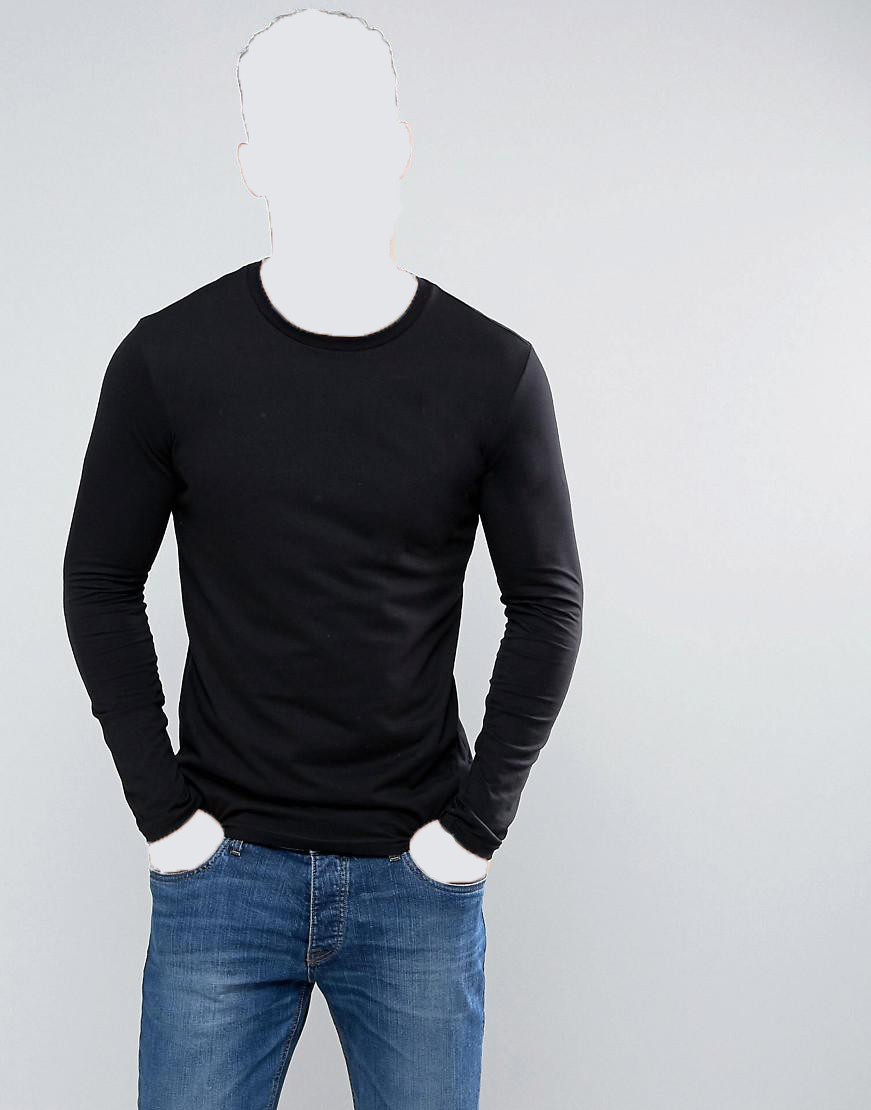teeshirt: (61, 251, 586, 890)
